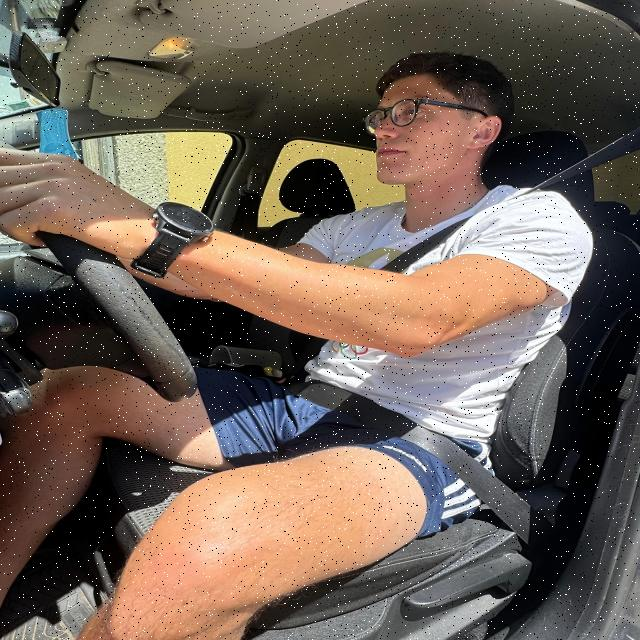Seatbelt: (240, 188, 558, 502)
